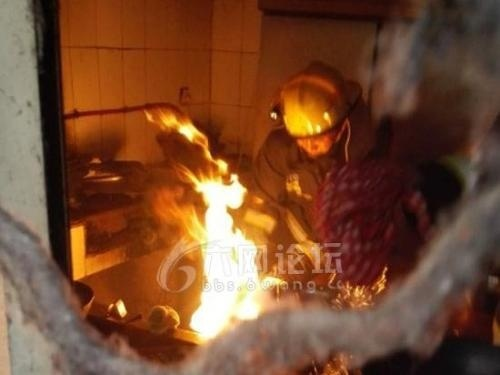fire: (150, 100, 281, 331), (331, 263, 391, 306)
